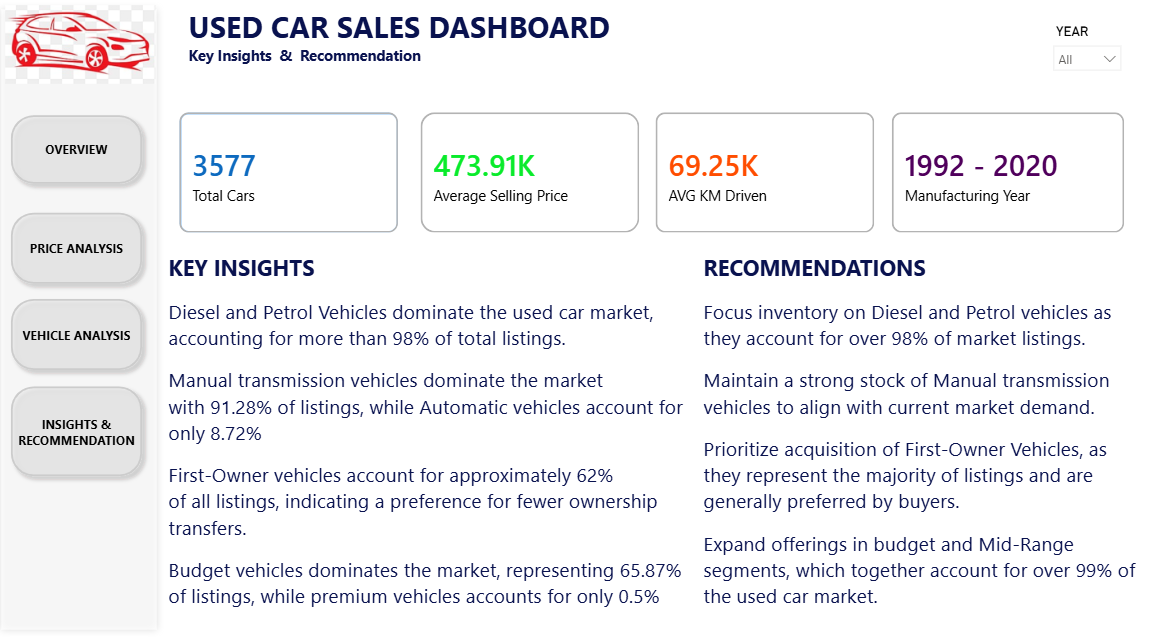

What the dashboard file says about the page in this screenshot:
{"tool":"powerbi","page":{"name":"Key Insights and Recommendation","canvas":[1280,720],"ordinal":3},"visuals":[{"type":"cardVisual","title":"T","fields":{"Data":["public car.Total Cars"]},"box":[186.6,115.3,274.4,166],"z":0},{"type":"cardVisual","fields":{"Data":["public car.Average Selling Price"]},"box":[451.5,115.3,274.4,166],"z":1000},{"type":"cardVisual","fields":{"Data":["public car.AVG KM Driven"]},"box":[709.4,115.3,274.4,166],"z":2000},{"type":"cardVisual","fields":{"Data":["public car.Manufacturing Year"]},"box":[968.8,115.3,289.5,166],"z":3000},{"type":"textbox","box":[186.6,281.3,587.3,426.8],"z":4000},{"type":"textbox","box":[773.9,281.3,494,426.8],"z":5000},{"type":"textbox","box":[208.6,11,1049.7,115.3],"z":6000},{"type":"shape","box":[0,11,186.6,697.1],"z":7000},{"type":"actionButton","box":[9.6,126.2,161.9,93.3],"z":8000},{"type":"actionButton","box":[9.6,233.3,161.9,96.1],"z":9000},{"type":"actionButton","box":[9.6,328,161.9,96.1],"z":10000},{"type":"actionButton","box":[9.6,424,161.9,116.6],"z":11000},{"type":"slicer","fields":{"Values":["public car.year"]},"box":[1152.7,30.2,94.7,75.5],"z":12000},{"type":"image","box":[12.3,0,164.7,115.3],"z":13000}]}

Visuals, with their boxes in screenshot pixels (x1, y1, x2, y2), scaled from the page's 1280x720 canvas onto the 1154x640 screenshot:
"T" cardVisual: BBox(168, 102, 416, 250)
cardVisual - public car.Average Selling Price: BBox(407, 102, 654, 250)
cardVisual - public car.AVG KM Driven: BBox(640, 102, 887, 250)
cardVisual - public car.Manufacturing Year: BBox(873, 102, 1134, 250)
textbox: BBox(168, 250, 698, 629)
textbox: BBox(698, 250, 1143, 629)
textbox: BBox(188, 10, 1134, 112)
shape: BBox(0, 10, 168, 629)
actionButton: BBox(9, 112, 155, 195)
actionButton: BBox(9, 207, 155, 293)
actionButton: BBox(9, 292, 155, 377)
actionButton: BBox(9, 377, 155, 481)
slicer - public car.year: BBox(1039, 27, 1125, 94)
image: BBox(11, 0, 160, 102)
